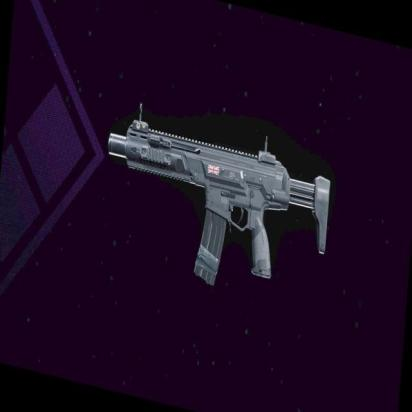Gun: (108, 108, 334, 285)
